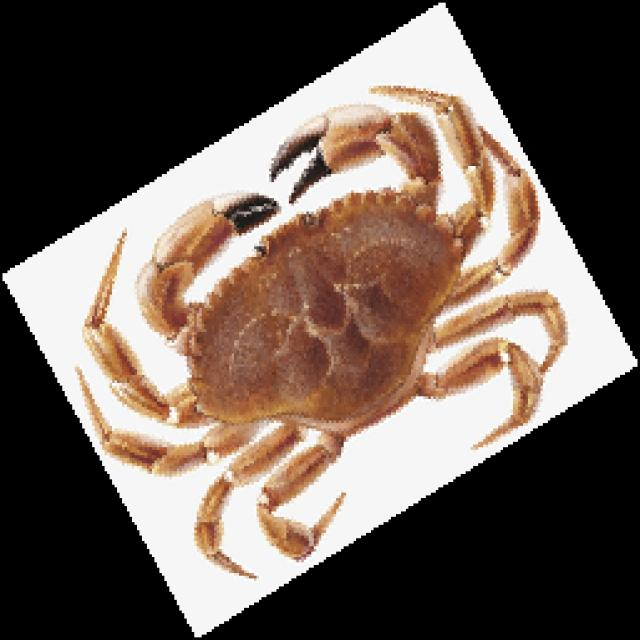Native Jonah crab: (77, 86, 565, 576)
